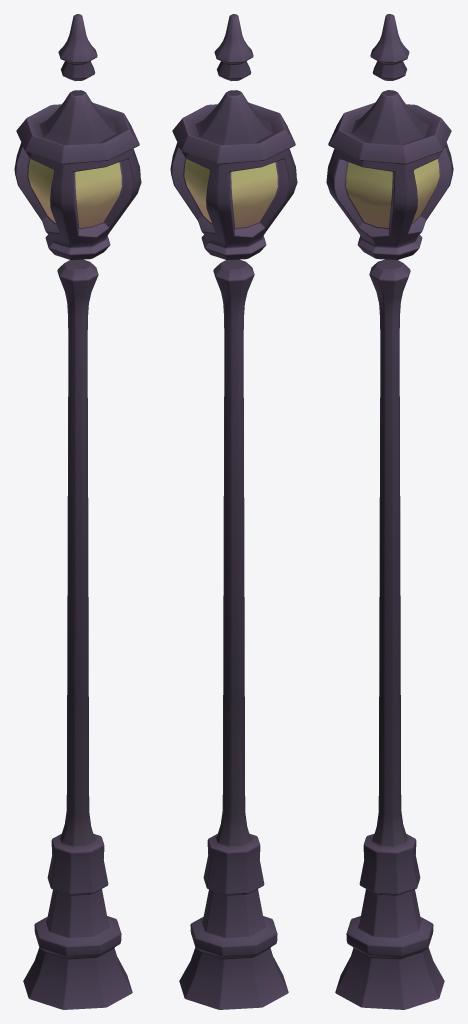
The model's file is Lamp_Post.fbx.
3 renders of one model, left to right at view 1: azimuth 30°, elevation 25°; view 2: azimuth 210°, elevation 25°; view 3: azimuth 330°, elevation 25°, orthographic.
Visible parts, largest first — view 1: Cylinder; view 2: Cylinder; view 3: Cylinder.
Part boxes in pixels (x1,y1,x2,y2): Cylinder: (14,14,141,1009); Cylinder: (170,14,297,1009); Cylinder: (326,14,453,1009).
Bounding box in the file's own units: 160 × 1415 × 160.
